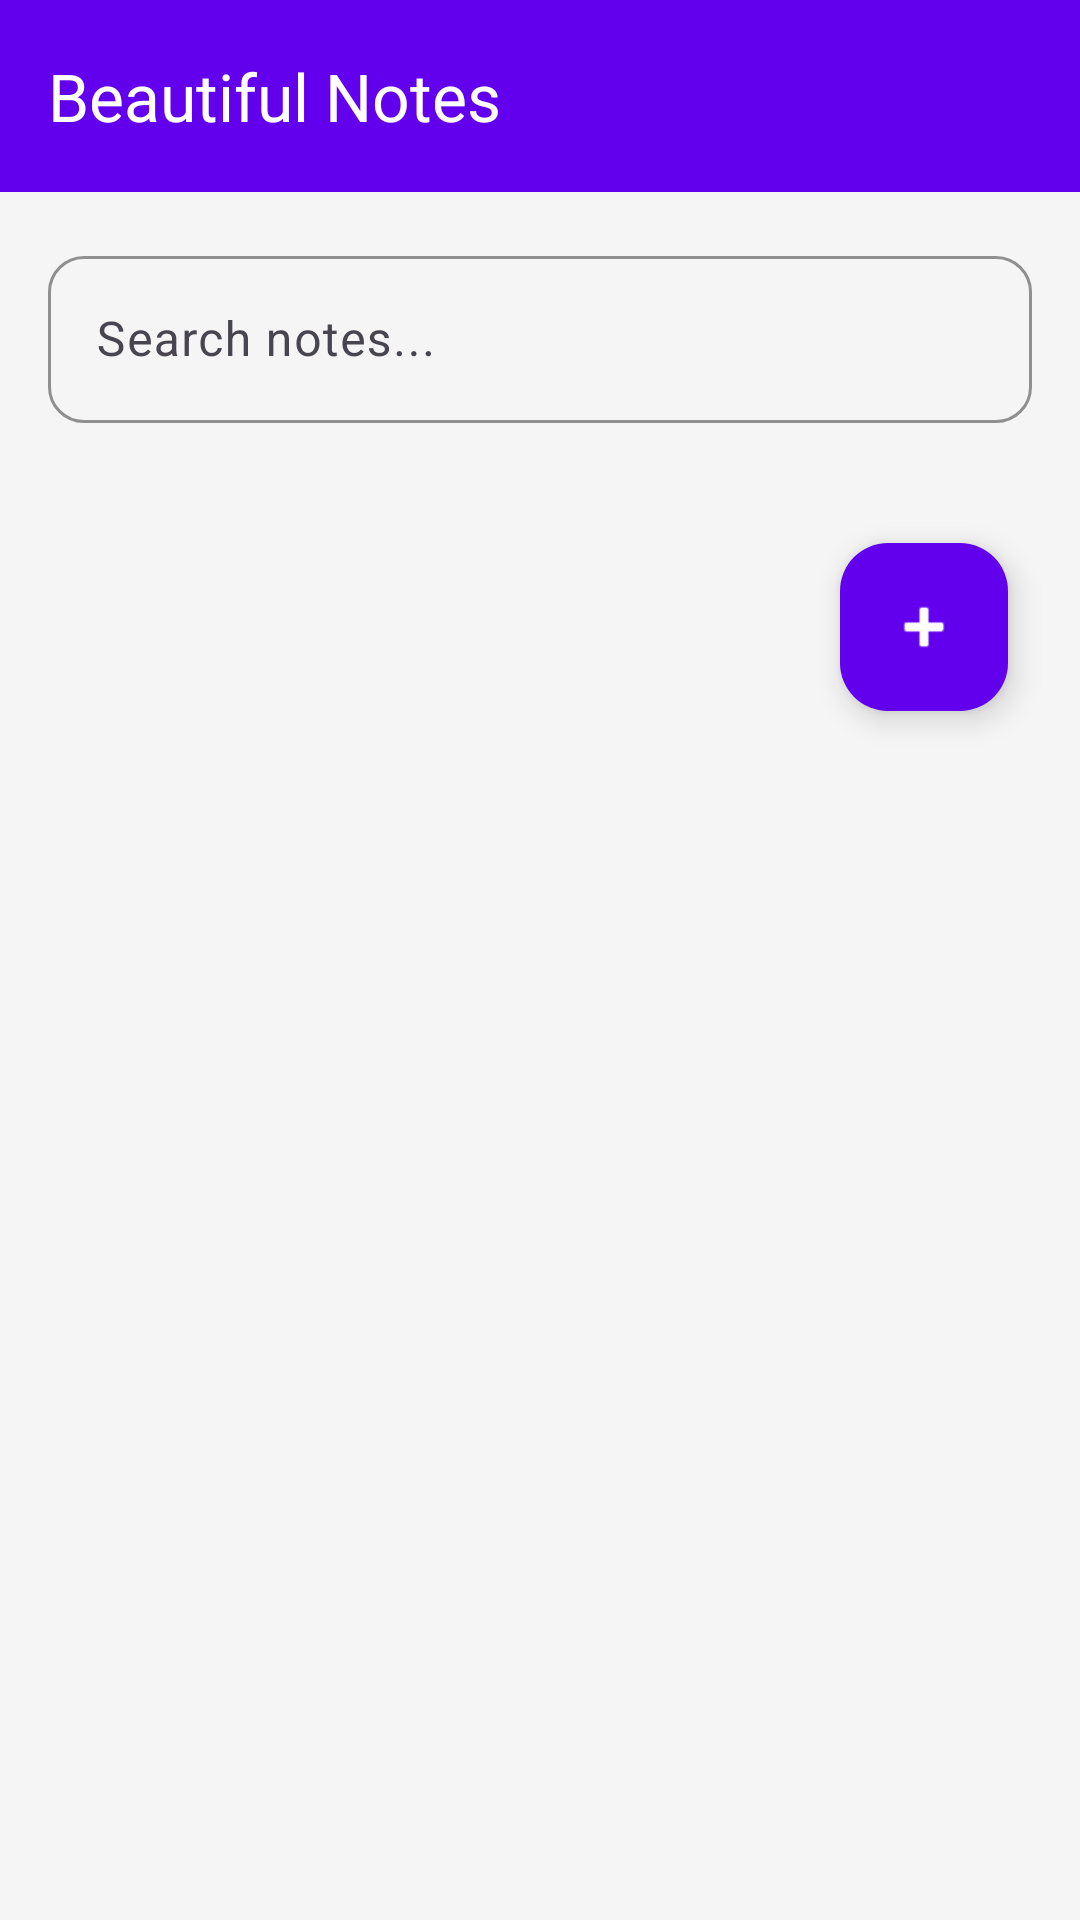

Screen size 1080px x 1920px. Icon name, then its box in pixels as detection(x1, y1, x2, y2):
Add new note: detection(840, 543, 1008, 711)
